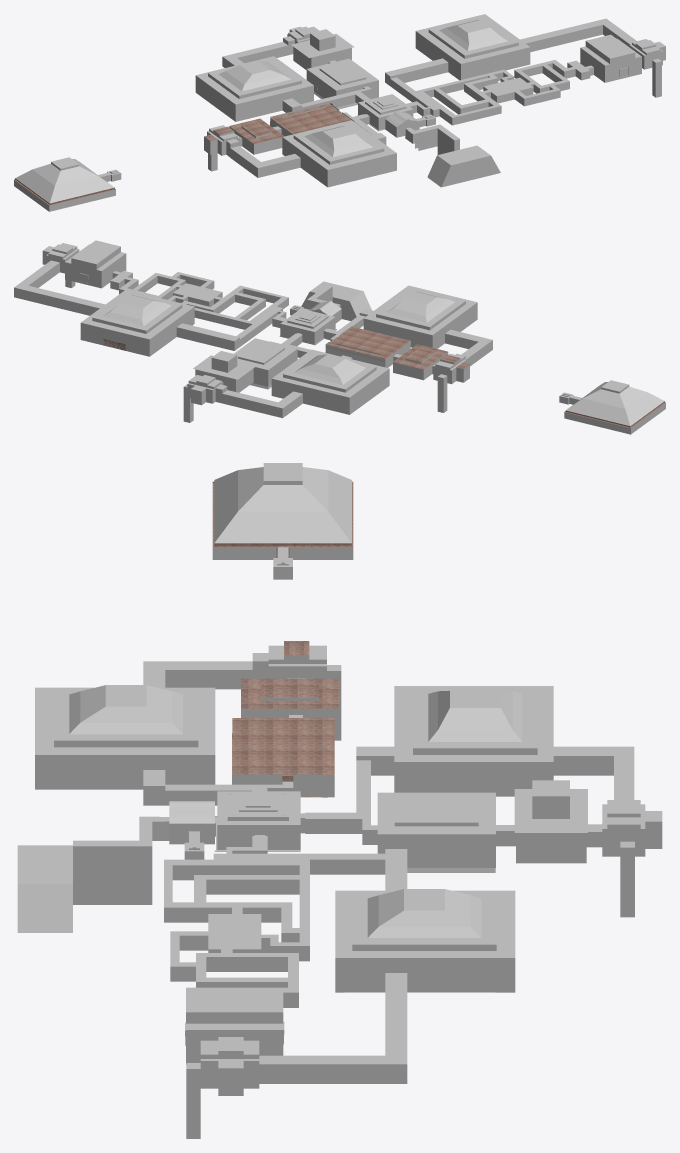
The model's file is Final_Map.fbx.
The picture shows the model from 3 angles, top to bottom: view 1: azimuth 30°, elevation 25°; view 2: azimuth 150°, elevation 25°; view 3: azimuth 270°, elevation 25°; orthographic projection. The views are drawn at different scales.
Parts seen in each view (by area): view 1: RotatorBot_GreatHall, polySurface139, SpiralBot_GreatHall, BlastBot_GreatHall, polySurface73, polySurface109, Secret_ArtGallery_Room, Sliding_Puzzle_Room, polySurface141; view 2: RotatorBot_GreatHall, SpiralBot_GreatHall, BlastBot_GreatHall, polySurface139, polySurface109, polySurface73, Secret_ArtGallery_Room, Sliding_Puzzle_Room, polySurface141; view 3: polySurface139, RotatorBot_GreatHall, BlastBot_GreatHall, SpiralBot_GreatHall, polySurface73, polySurface109, Secret_ArtGallery_Room, Sliding_Puzzle_Room, polySurface141.
Part boxes in pixels (box(x1,y1,x2,y2)): RotatorBot_GreatHall: box(385, 14, 636, 107); polySurface139: box(306, 58, 500, 187); SpiralBot_GreatHall: box(195, 42, 355, 121); BlastBot_GreatHall: box(230, 119, 396, 187); polySurface73: box(406, 60, 590, 125); polySurface109: box(204, 102, 369, 171); Secret_ArtGallery_Room: box(14, 157, 121, 211); Sliding_Puzzle_Room: box(580, 34, 665, 97); polySurface141: box(283, 26, 354, 69); RotatorBot_GreatHall: box(14, 263, 274, 356); SpiralBot_GreatHall: box(222, 344, 389, 418); BlastBot_GreatHall: box(338, 285, 492, 366); polySurface139: box(234, 281, 371, 386); polySurface109: box(323, 326, 469, 412); polySurface73: box(110, 271, 288, 329); Secret_ArtGallery_Room: box(559, 380, 665, 434); Sliding_Puzzle_Room: box(42, 240, 126, 288); polySurface141: box(183, 351, 255, 422); polySurface139: box(17, 791, 495, 932); RotatorBot_GreatHall: box(245, 849, 515, 1083); BlastBot_GreatHall: box(35, 661, 252, 805); SpiralBot_GreatHall: box(356, 686, 634, 824); polySurface73: box(164, 836, 309, 1007); polySurface109: box(232, 641, 341, 797); Secret_ArtGallery_Room: box(212, 463, 353, 579); Sliding_Puzzle_Room: box(185, 987, 284, 1138); polySurface141: box(496, 780, 662, 917).
Bounding box in the file's own units: 3123 × 277 × 1417.
